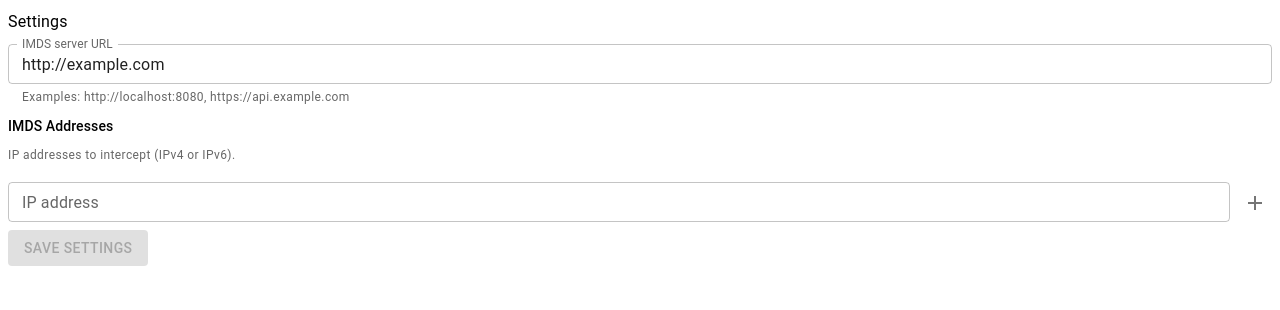
Test case: SettingsForm › adds a valid IPv4 address to the list
Type "169.254.169.254" into the field labelled "IP address" at (619, 202), box [8,182,1230,222]
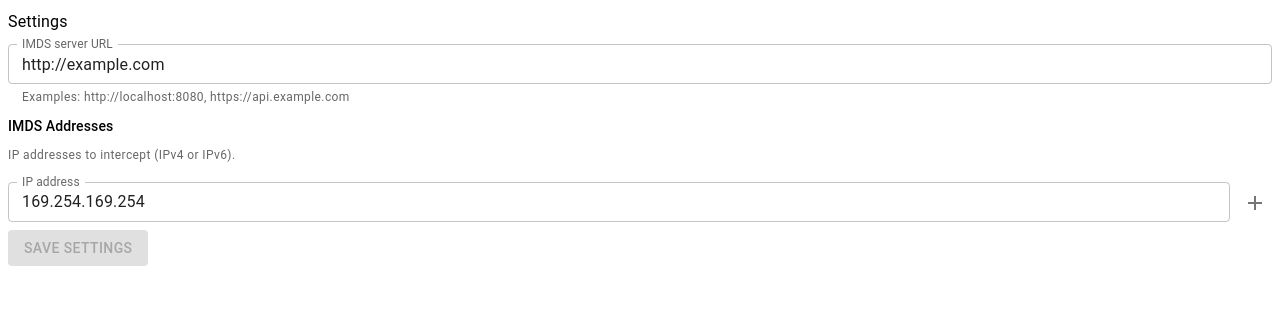
Click the 1st button at (1255, 203), box [1238,186,1272,220]
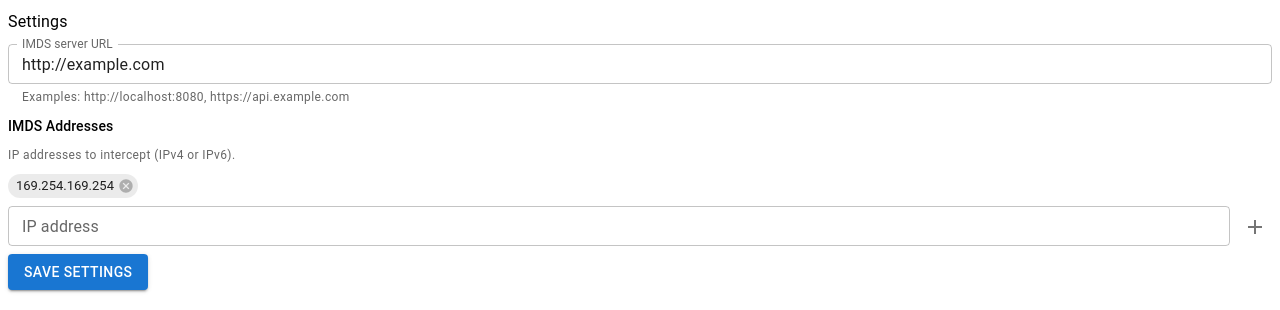
Expected: the text "169.254.169.254" is shown, [8,178,122,193]
